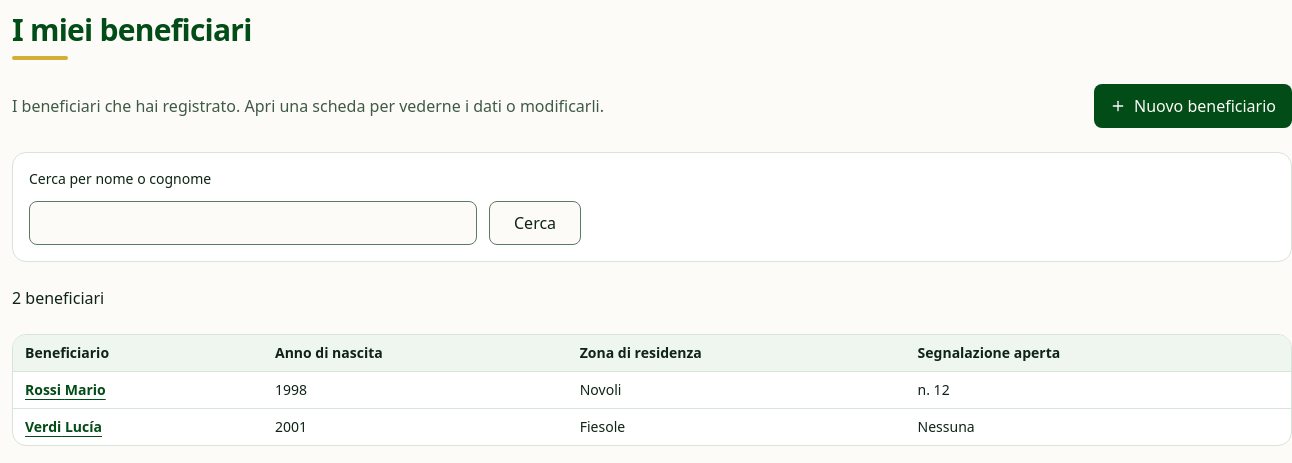
Test: <BeneficiariesPage> › cerca per nome e cognome in qualunque ordine, senza accenti
Expected: the link "Rossi Mario" is shown, [25, 380, 106, 399]
Type "verdi lucia" into the search field labelled "Cerca per nome o cognome". click: (253, 223)
box: [29, 201, 477, 245]
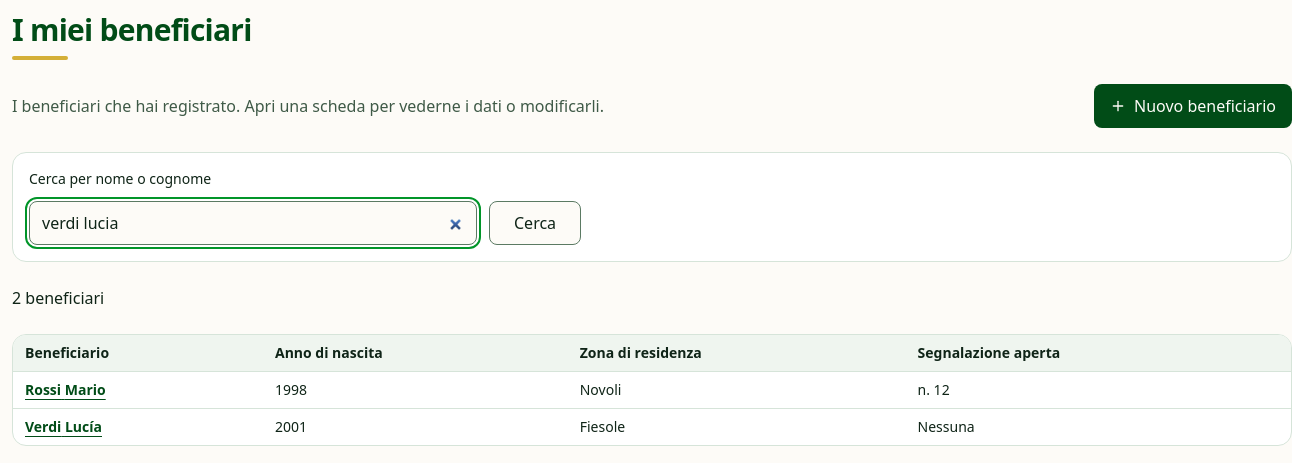
Click the button "Cerca". click: (535, 223)
box: [489, 201, 581, 245]
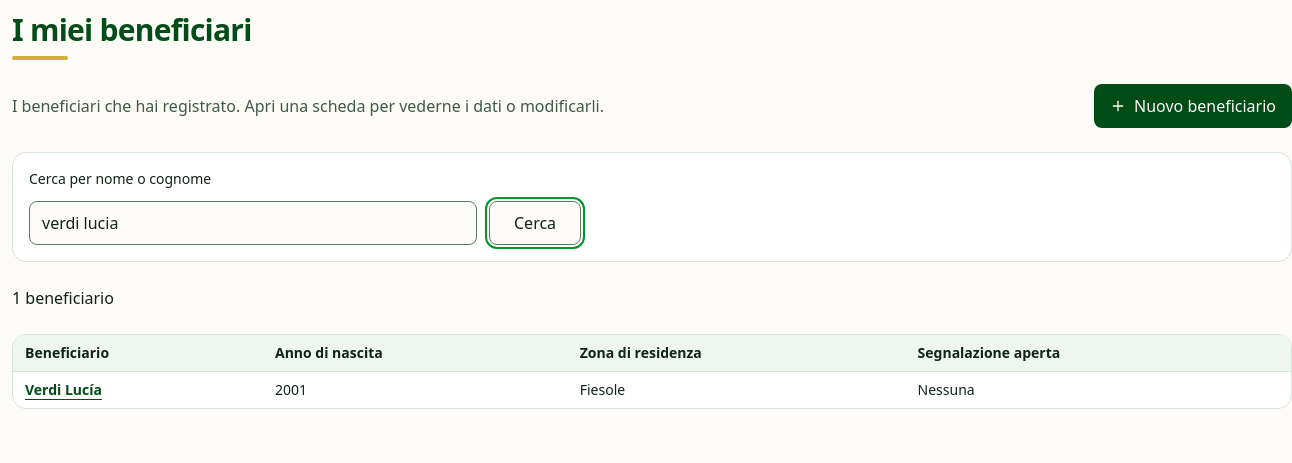
Expected: the link "Verdi Lucía" is shown, [25, 380, 102, 399]
Expected: the message reads "1 beneficiario", [12, 287, 114, 309]
Expected: the link "Rossi Mario" is gone
